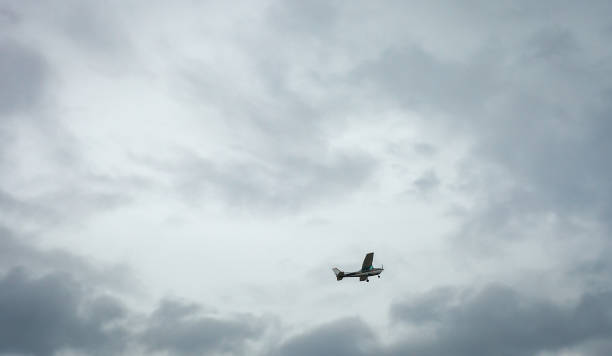plane: (329, 251, 384, 282)
